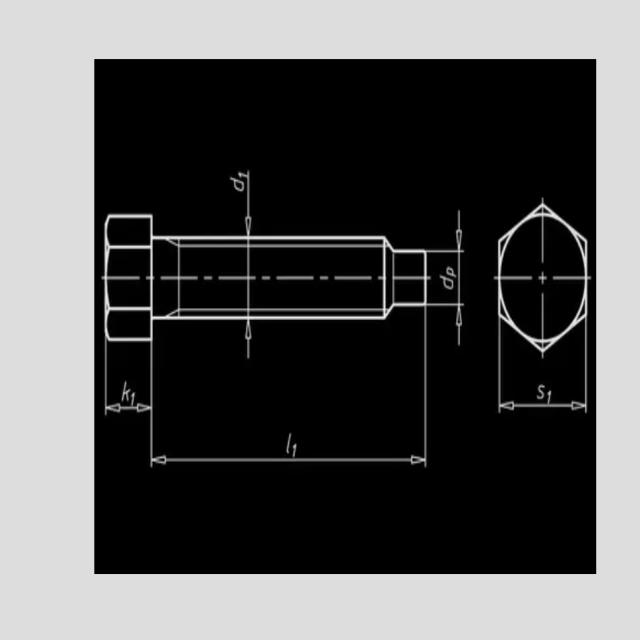marking_line: (154, 454, 425, 467), (503, 398, 583, 411), (108, 404, 154, 416), (244, 173, 252, 239), (242, 322, 253, 357), (455, 308, 463, 349), (456, 209, 463, 248)
